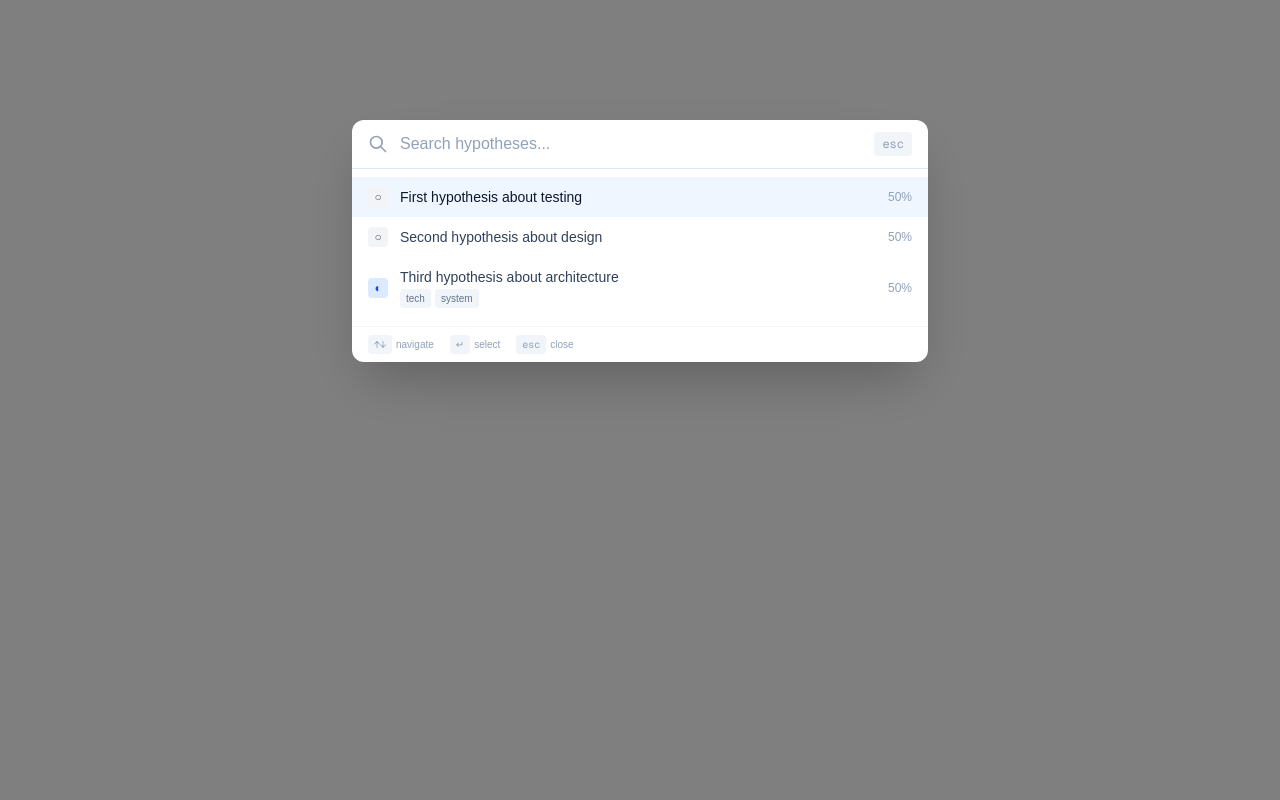
Test: SearchModal › filtering › filters hypotheses by tags
The image size is (1280, 800).
Type "tech" into the field with placeholder "Search hypotheses..." at [631, 144], box x1=400 y1=132 x2=862 y2=156
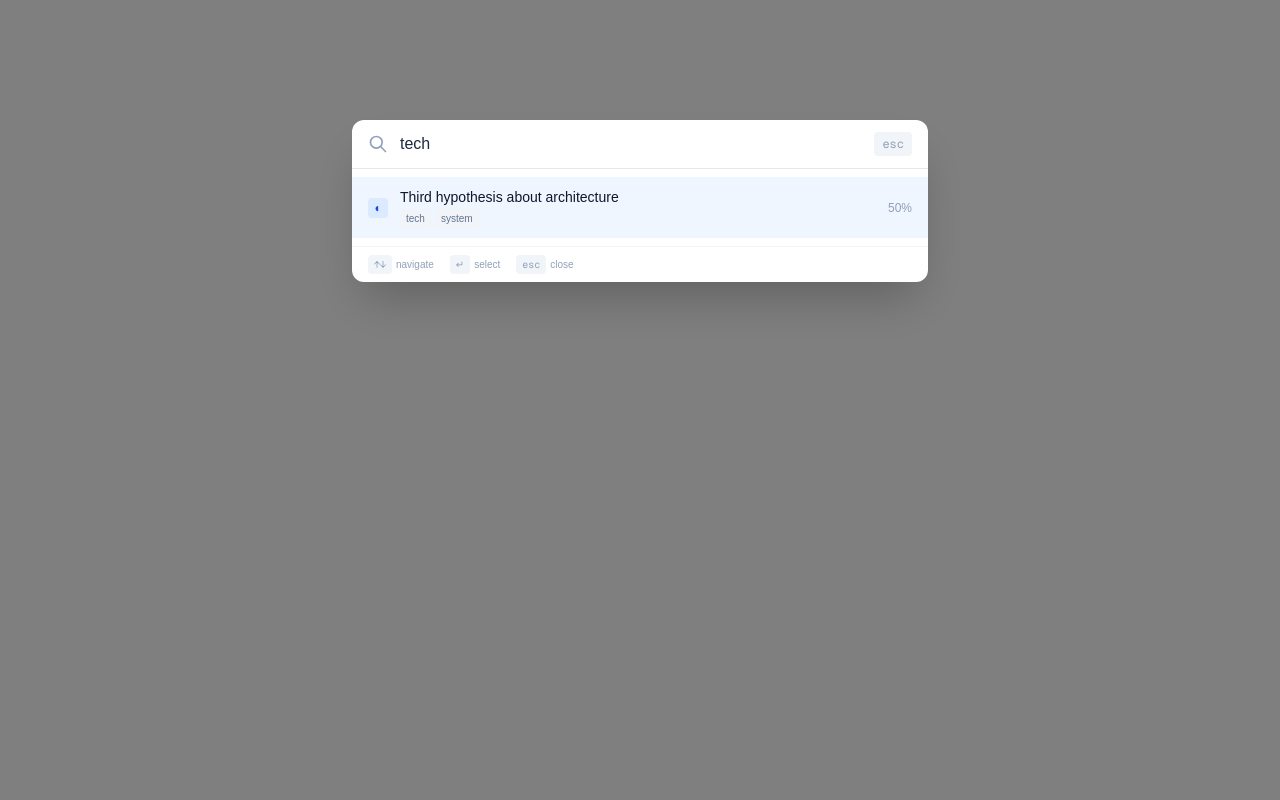
expect the text "Third hypothesis about architecture" is shown: met, box x1=400 y1=189 x2=619 y2=205
expect the button "First hypothesis" is gone: met
expect the button "Second hypothesis" is gone: met
